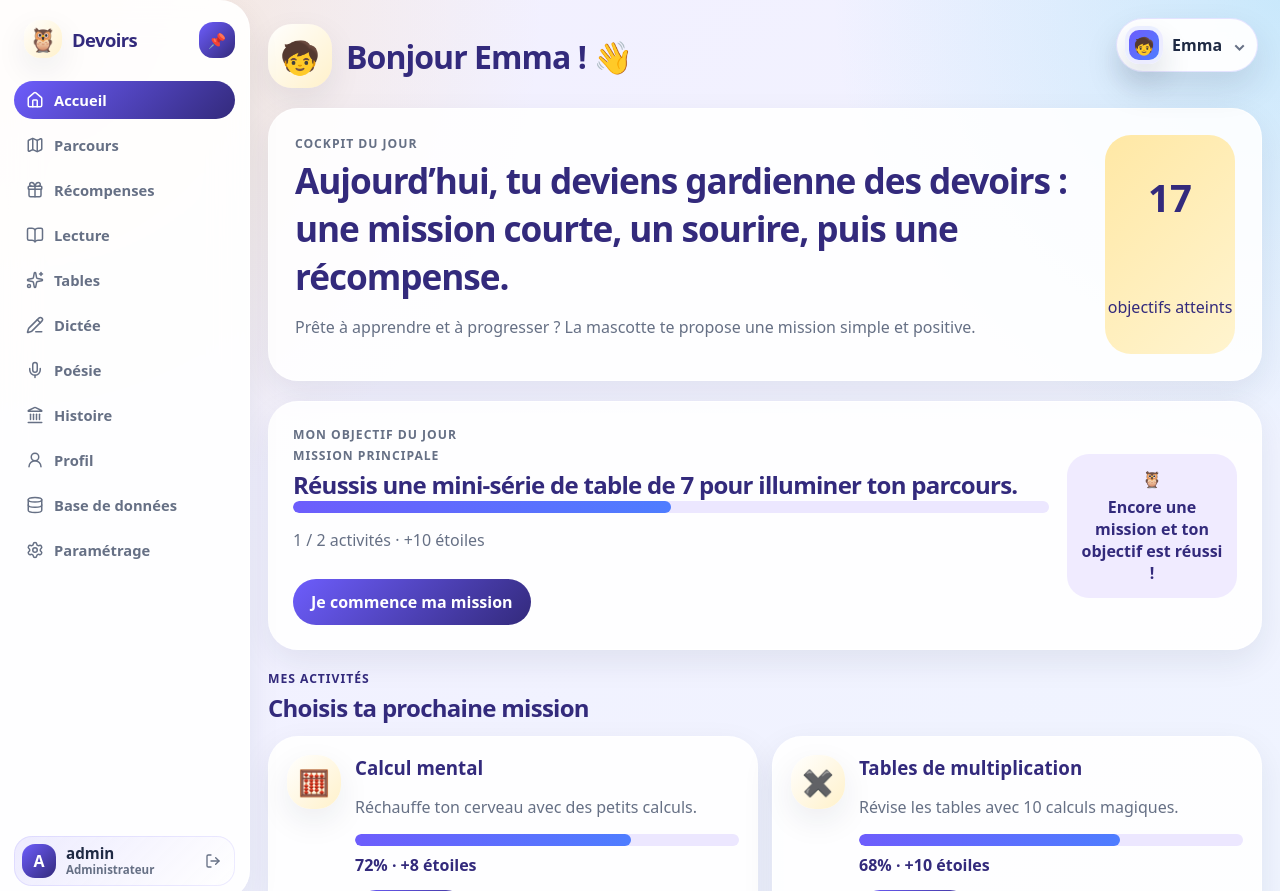
it: Page Profil famille › liste tous les profils famille, active un seul profil et met à jour le résumé actif
The image size is (1280, 891).
Click the button "Profil".
click(124, 460)  # box 14,441 -> 235,479
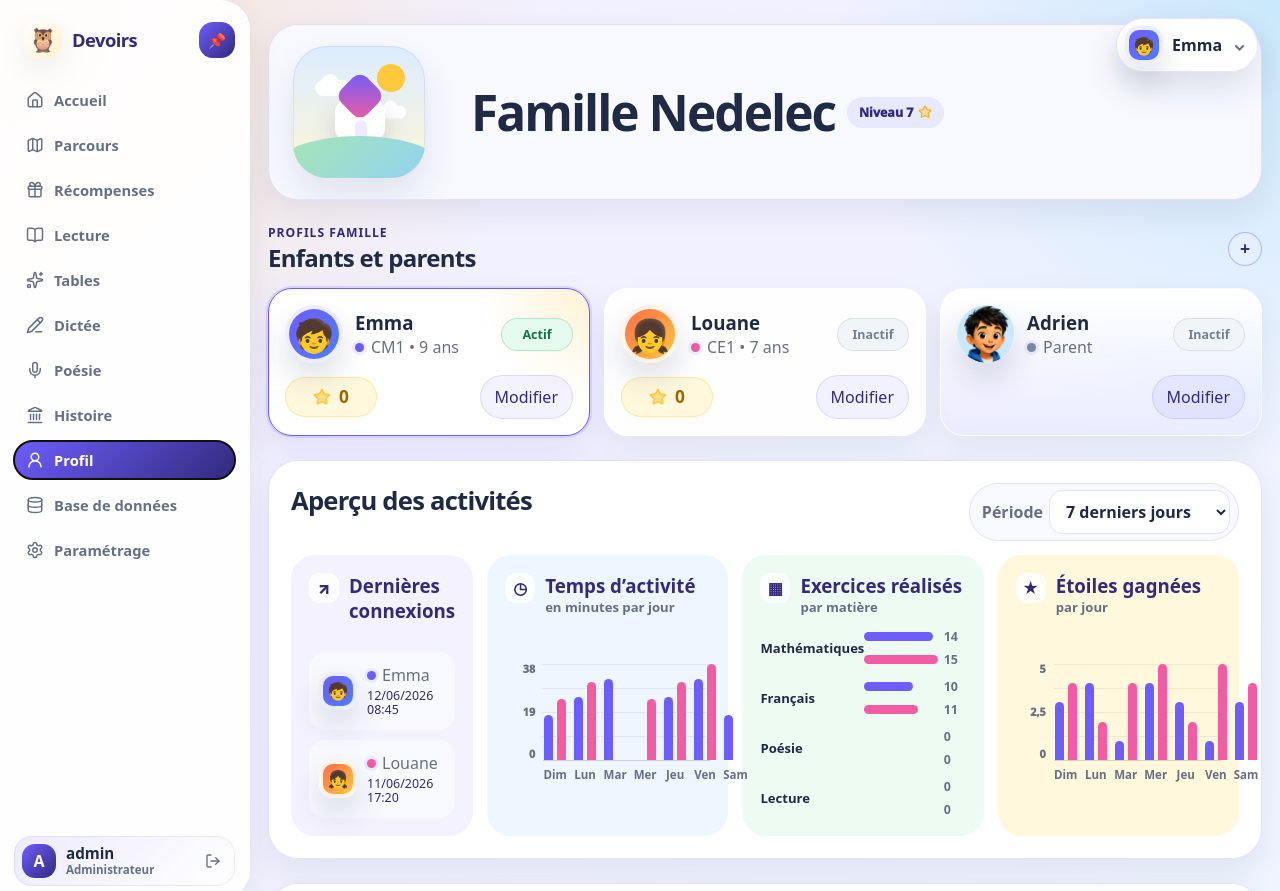
Now the heading "Famille Nedelec" is shown, box 471,78 -> 835,146
Now the button "Actif" is shown, box 501,318 -> 573,350
Now the element named "étoiles collectées par emma" reads "0", box 285,377 -> 377,417
Click the button with aria-label "activer louane".
click(873, 334)  # box 837,318 -> 909,350
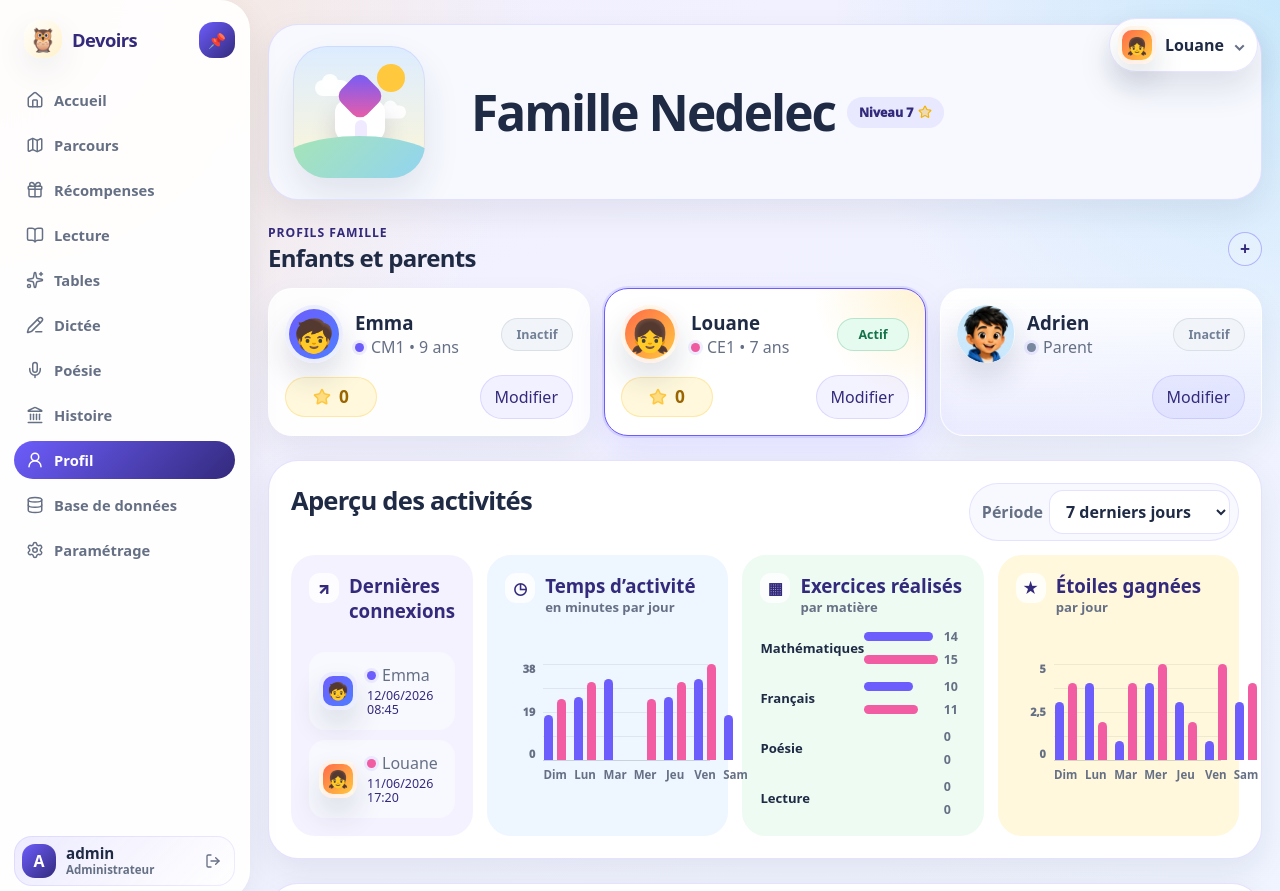
Now the button "Actif" is shown, box 837,318 -> 909,350
Now the button "Inactif" next to "CM1 • 9 ans" is shown, box 501,318 -> 573,350
Now the button with aria-label "changer d’utilisateur actif" shows "Louane", box 1109,18 -> 1258,72
